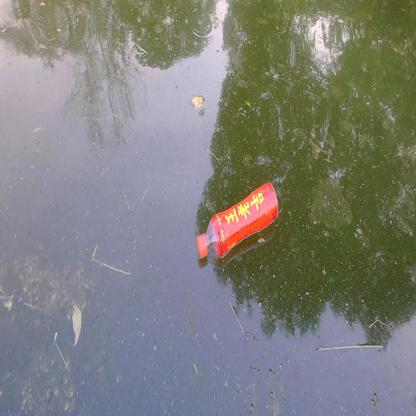plastic bottle: (195, 181, 280, 259)
